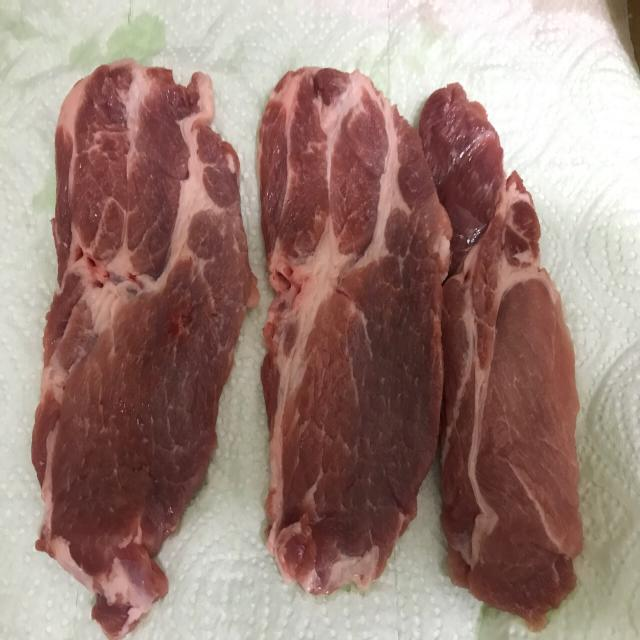beef: (84, 95, 243, 578), (272, 93, 430, 504), (427, 121, 557, 602)
